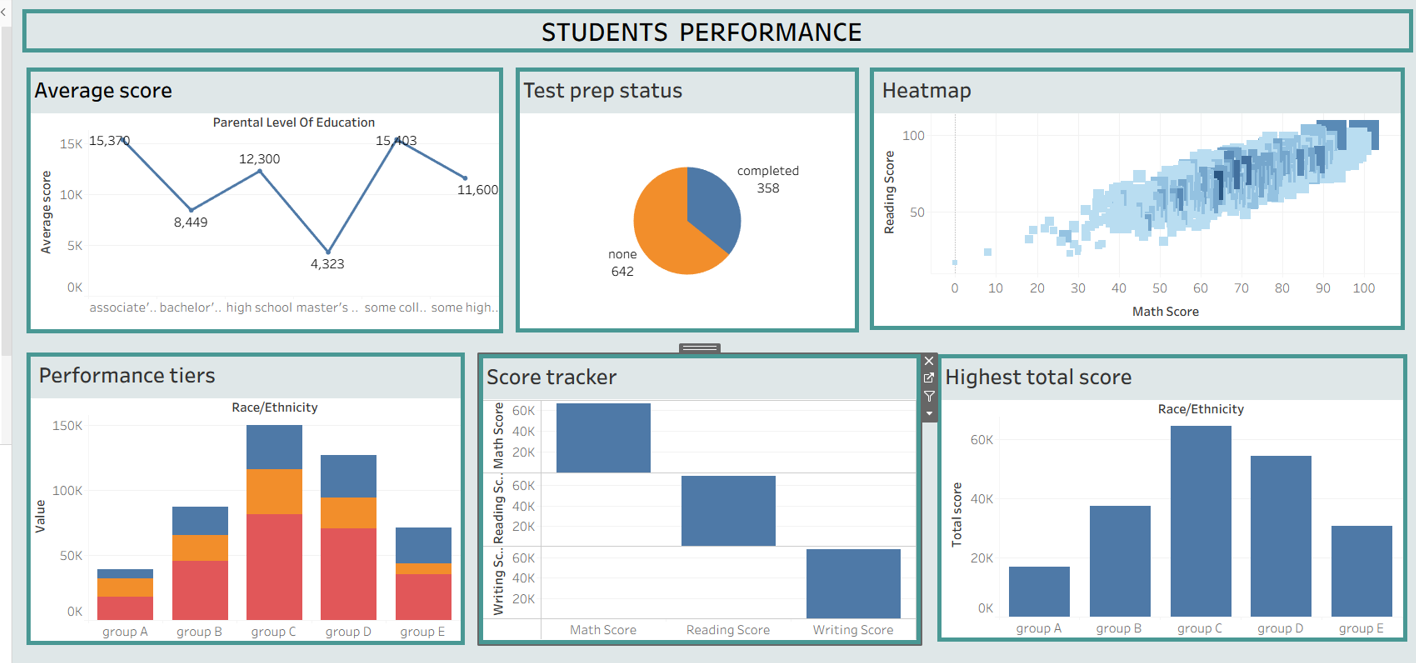

Layout of this report page (visuals, bound fields, positions):
{"tool":"tableau","page":{"name":"Dashboard 1","canvas":[1000,1000],"units":"permille","ordinal":0},"visuals":[{"type":"title","box":[4.8,10,990.3,72.4]},{"type":"worksheet","title":"Average score l","mark":"Line","rows":["Calculation_229120684847370240"],"cols":["parental level of education"],"box":[8.4,82.4,328.9,427]},{"type":"worksheet","title":"Test Prep status","mark":"Pie","box":[355.5,84.9,224.5,423.2]},{"type":"worksheet","title":"Heatmap","mark":"Square","rows":["reading score"],"cols":["math score"],"box":[599.3,84.9,390.5,417]},{"type":"worksheet","title":"Score Tracker","mark":"Bar","rows":["math score","reading score","writing score"],"box":[9.7,524.3,310.8,453.2]},{"type":"worksheet","title":"Highest Total Score","mark":"Automatic","rows":["Calculation_1673087315499036672"],"cols":["race/ethnicity"],"box":[339.8,524.3,325.3,450.7]},{"type":"worksheet","title":"Performance tiers","mark":"Bar","cols":["race/ethnicity"],"box":[686.2,526.8,301.2,444.4]}]}

Visuals, with their boxes on the dashboard's canvas, which has no fixed pixel size, in thousandths of its width and height (x1, y1, x2, y2). These are canvas units, not pixel positions in the 1416x663 screenshot, which may show the page scaled, cropped or inside an application window:
title: locate(5, 10, 995, 82)
"Average score l" worksheet (Line marks): locate(8, 82, 337, 509)
"Test Prep status" worksheet (Pie marks): locate(356, 85, 580, 508)
"Heatmap" worksheet (Square marks): locate(599, 85, 990, 502)
"Score Tracker" worksheet (Bar marks): locate(10, 524, 320, 978)
"Highest Total Score" worksheet: locate(340, 524, 665, 975)
"Performance tiers" worksheet (Bar marks): locate(686, 527, 987, 971)
